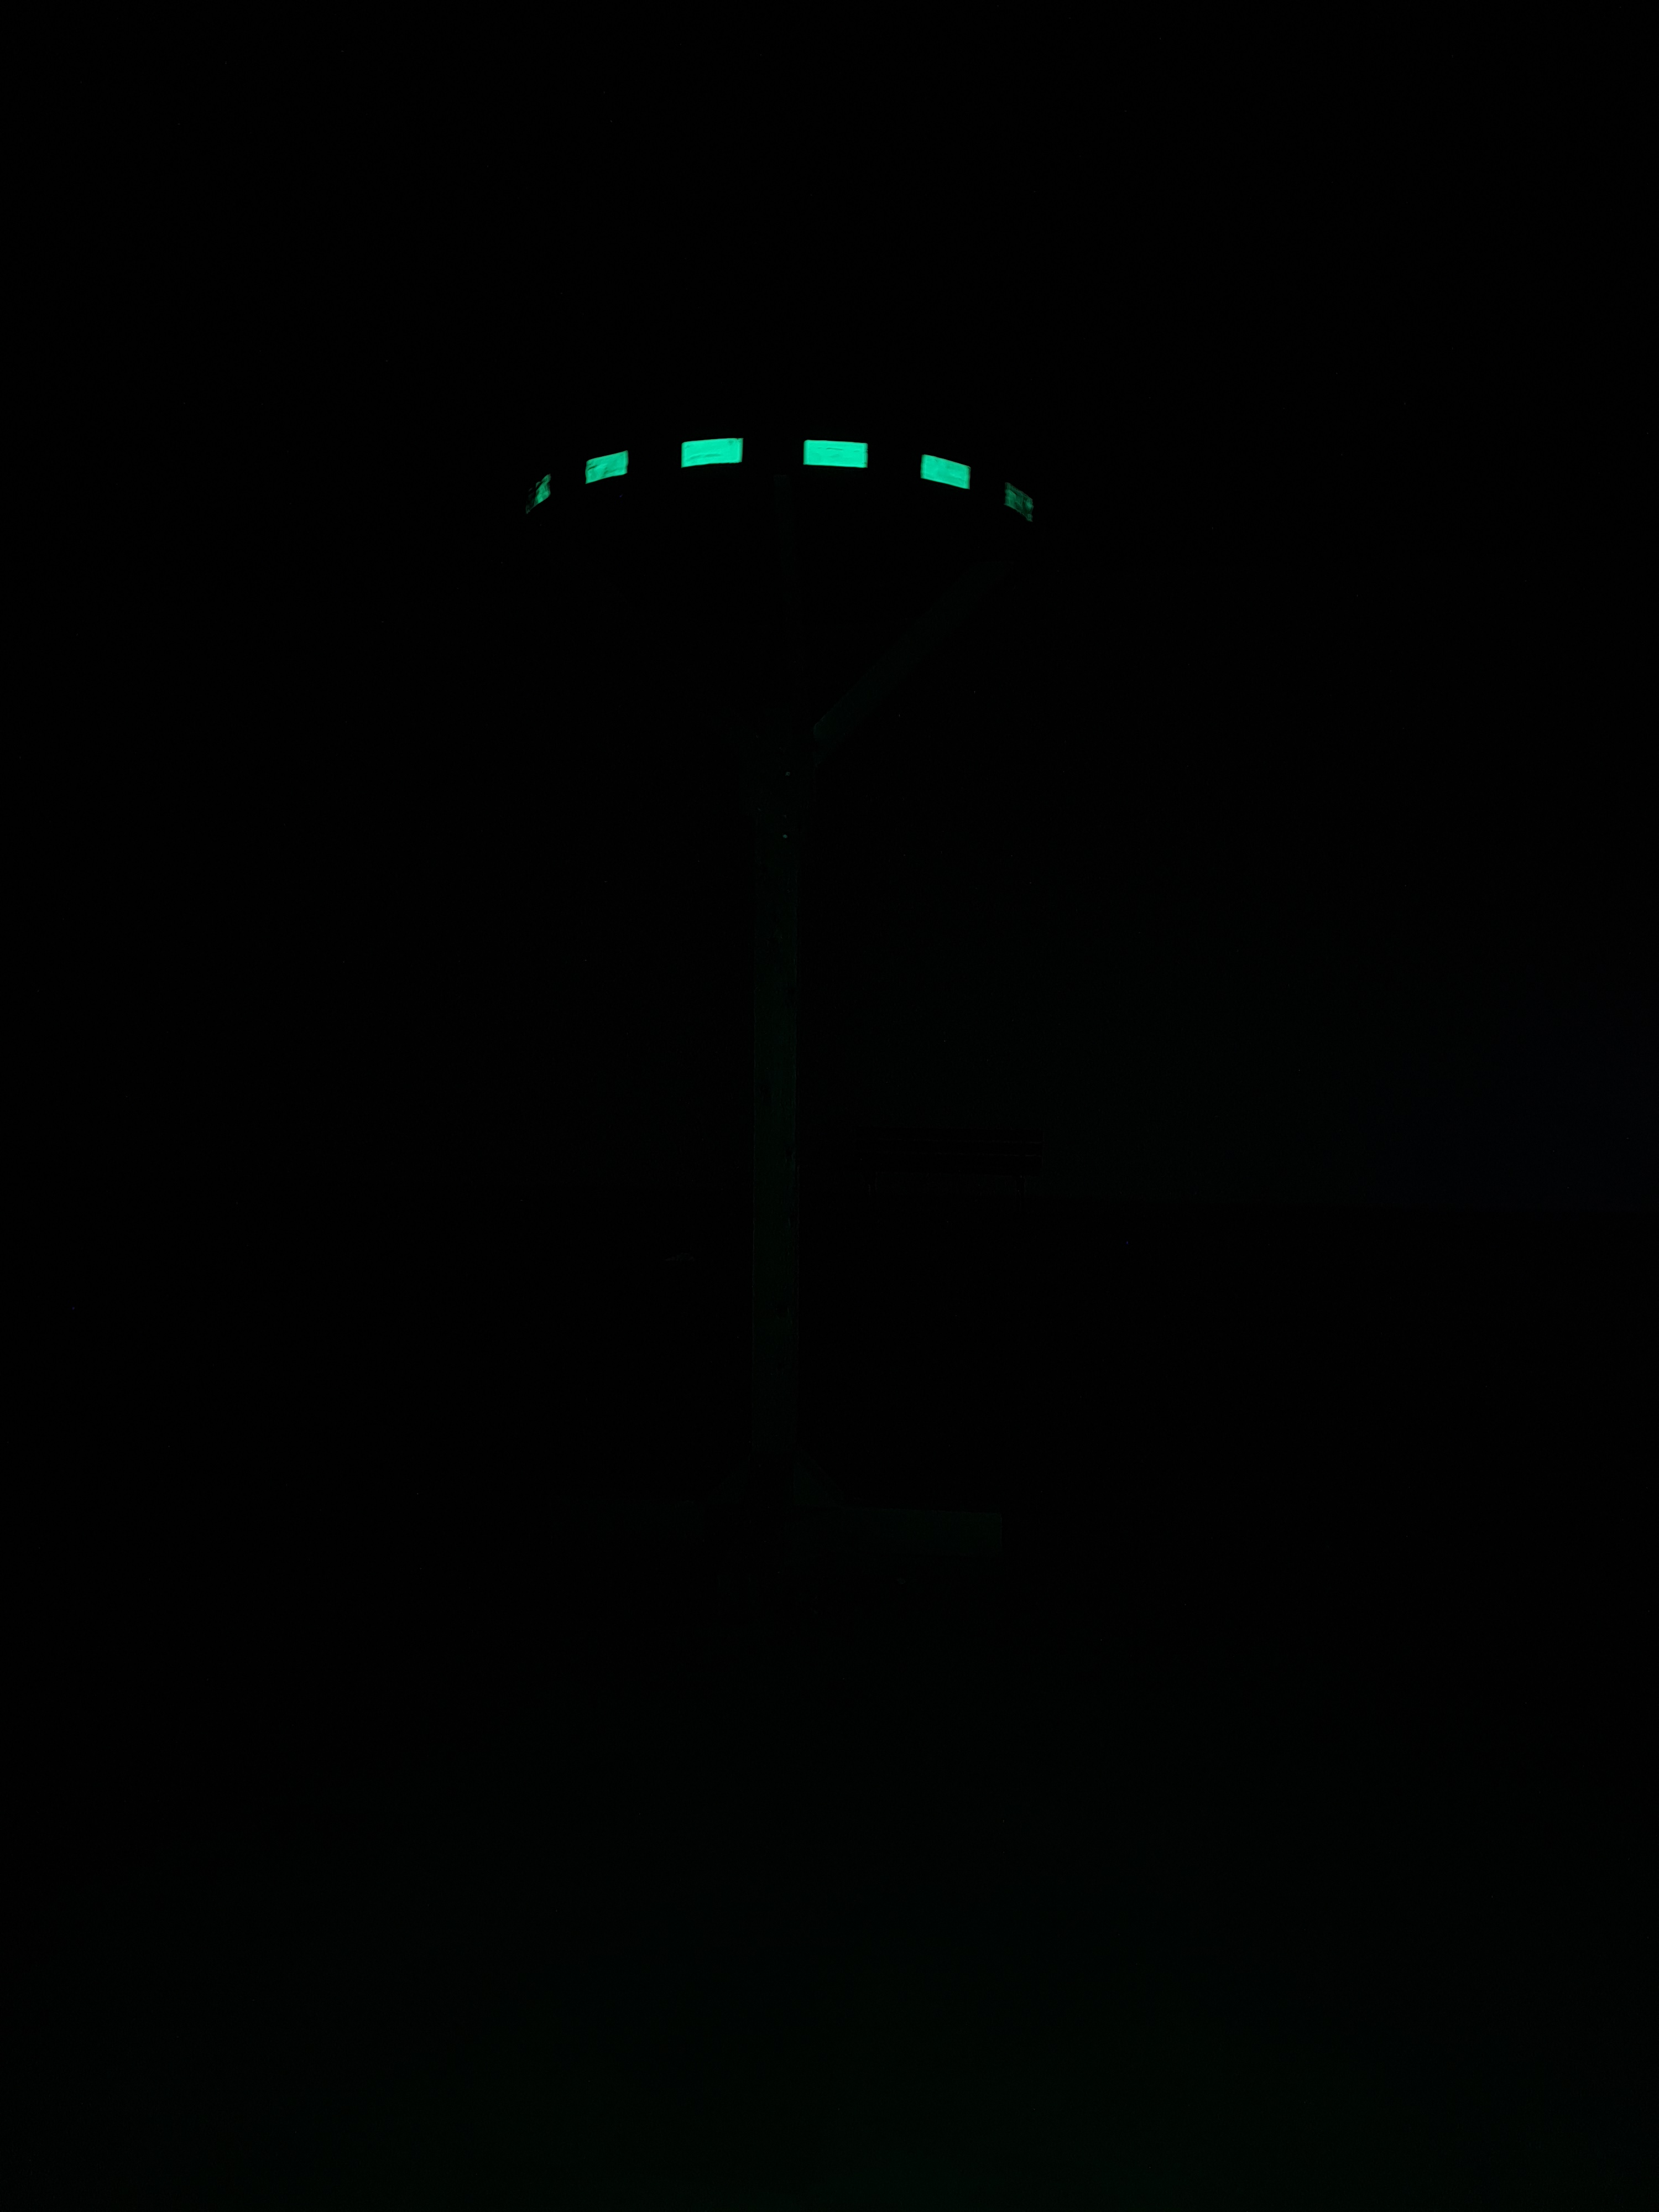hoop: (512, 430, 1039, 529)
